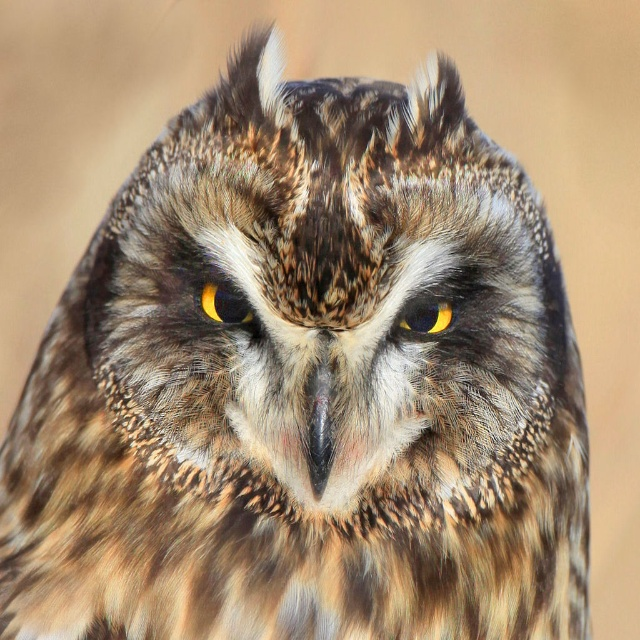Owl: (0, 12, 592, 640)
